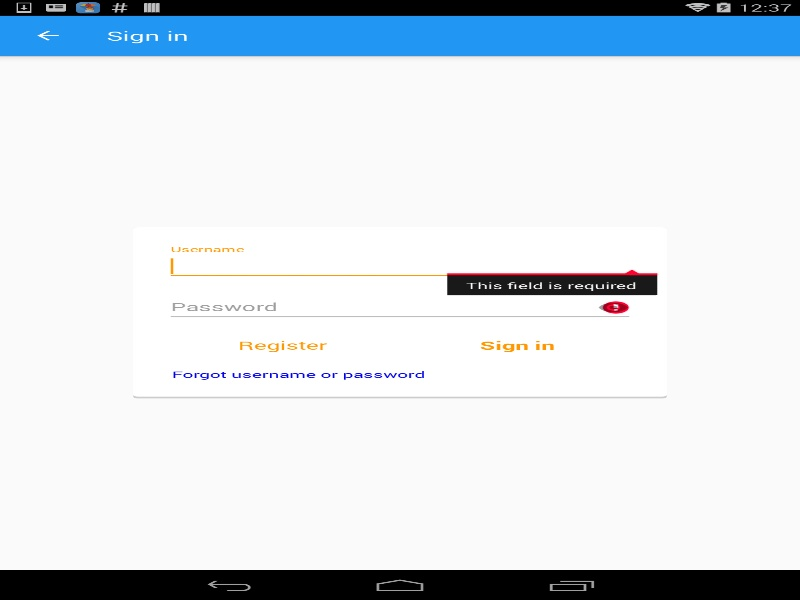Button: (165, 328, 400, 362), (400, 328, 634, 362), (10, 15, 85, 55), (592, 293, 634, 321)
Input: (165, 293, 634, 322), (165, 252, 634, 280)
